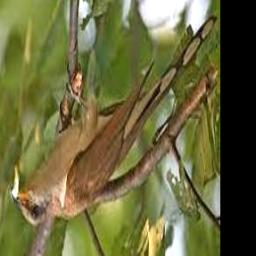Cuckoo: (10, 15, 218, 226)
